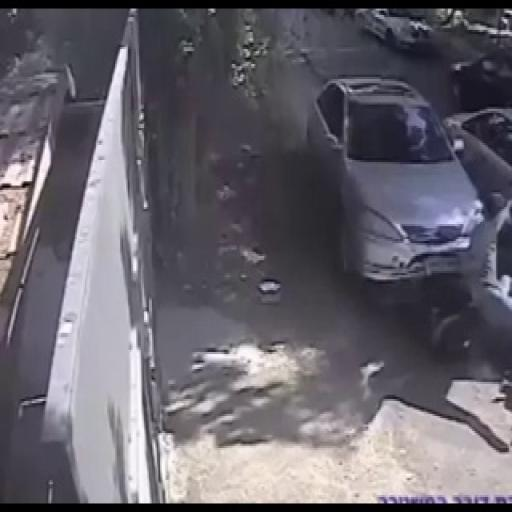Car: (308, 77, 487, 291)
Minor Accident: (302, 71, 512, 368)
Motor: (420, 255, 512, 362)
